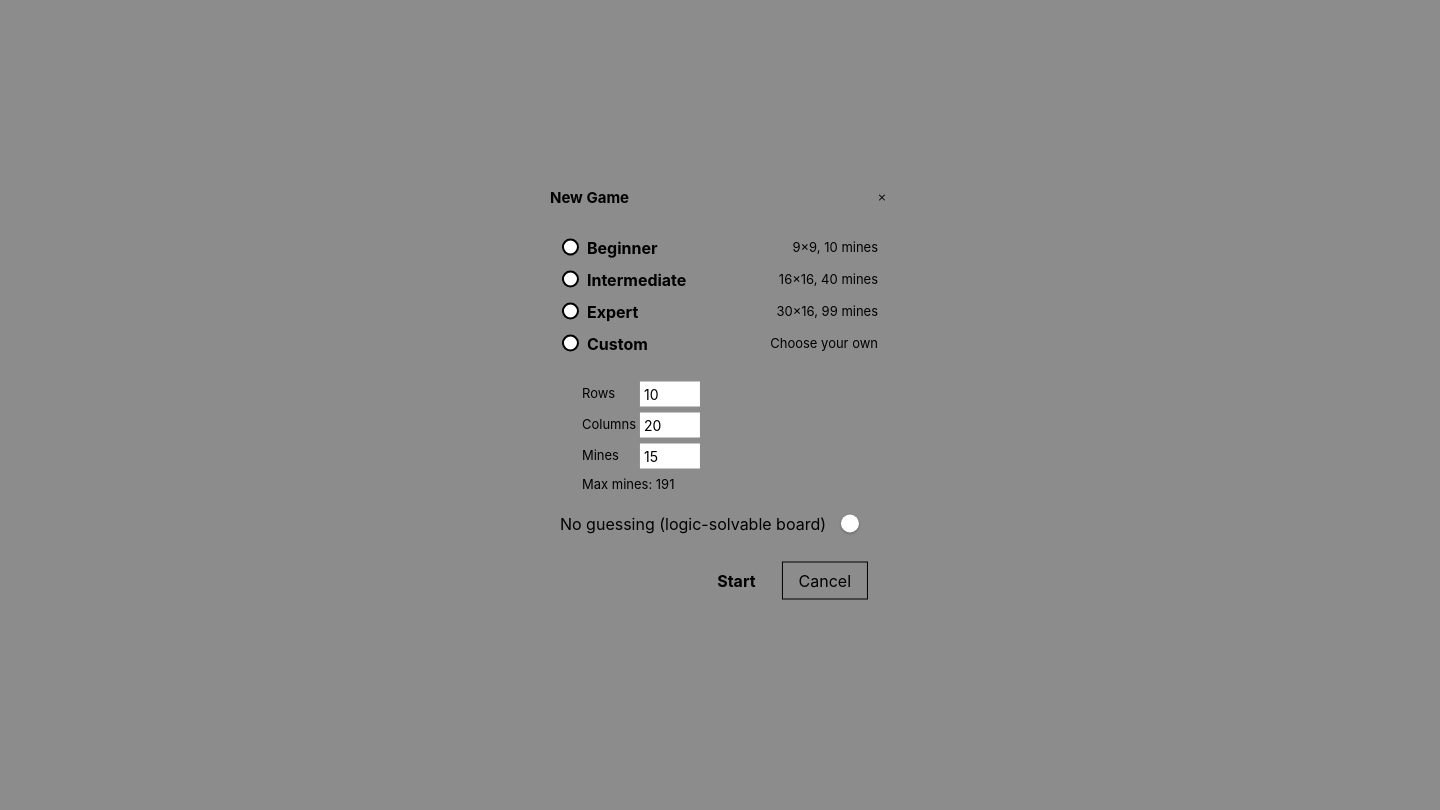
Test: NewGameModal – custom size inputs › clamps below-minimum rows to MIN_ROWS on blur
Step 1. Replace the text in the number field labelled "Rows" with "1" → (670, 394), box x1=640 y1=381 x2=700 y2=406
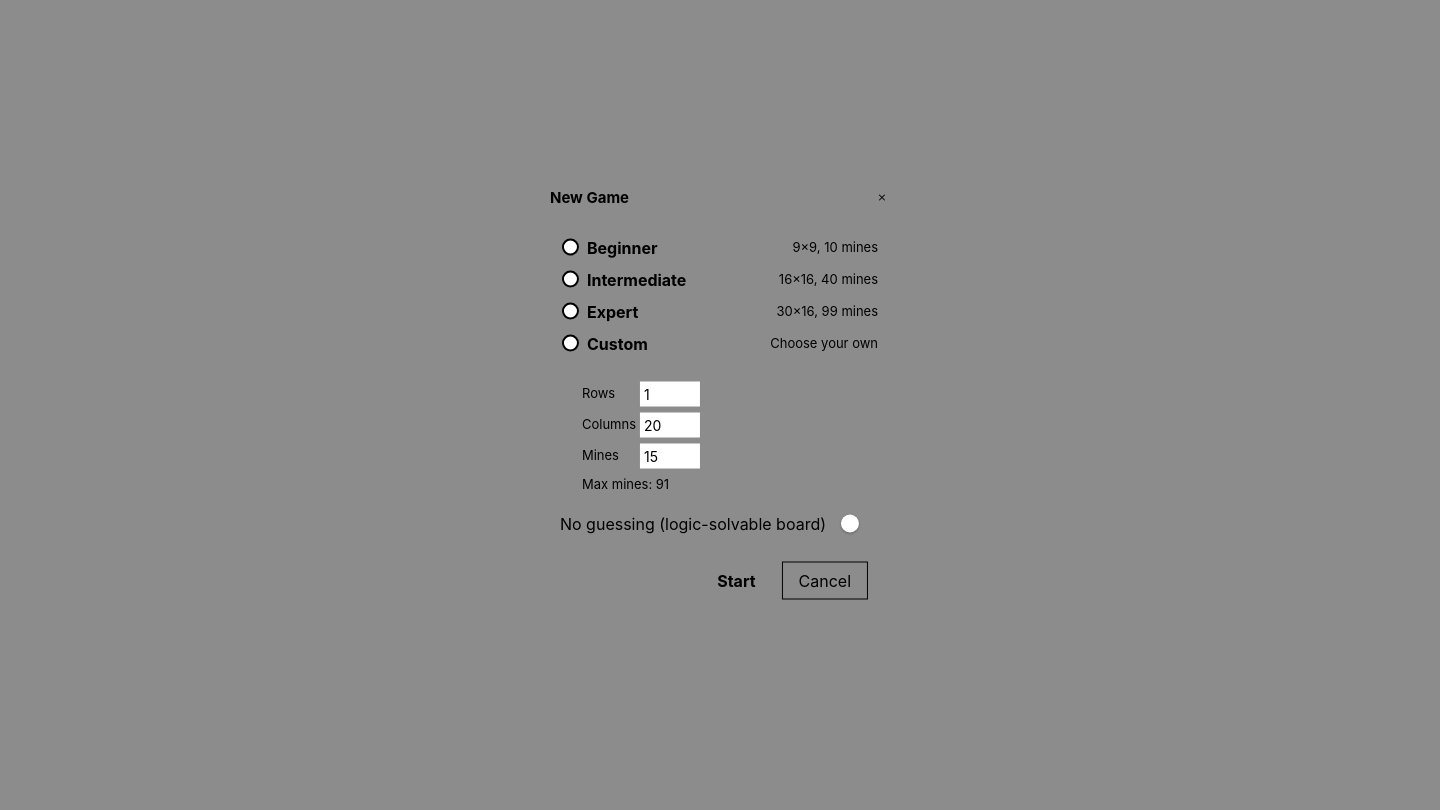
Step 2. Leave the number field labelled "Rows", box x1=640 y1=381 x2=700 y2=406
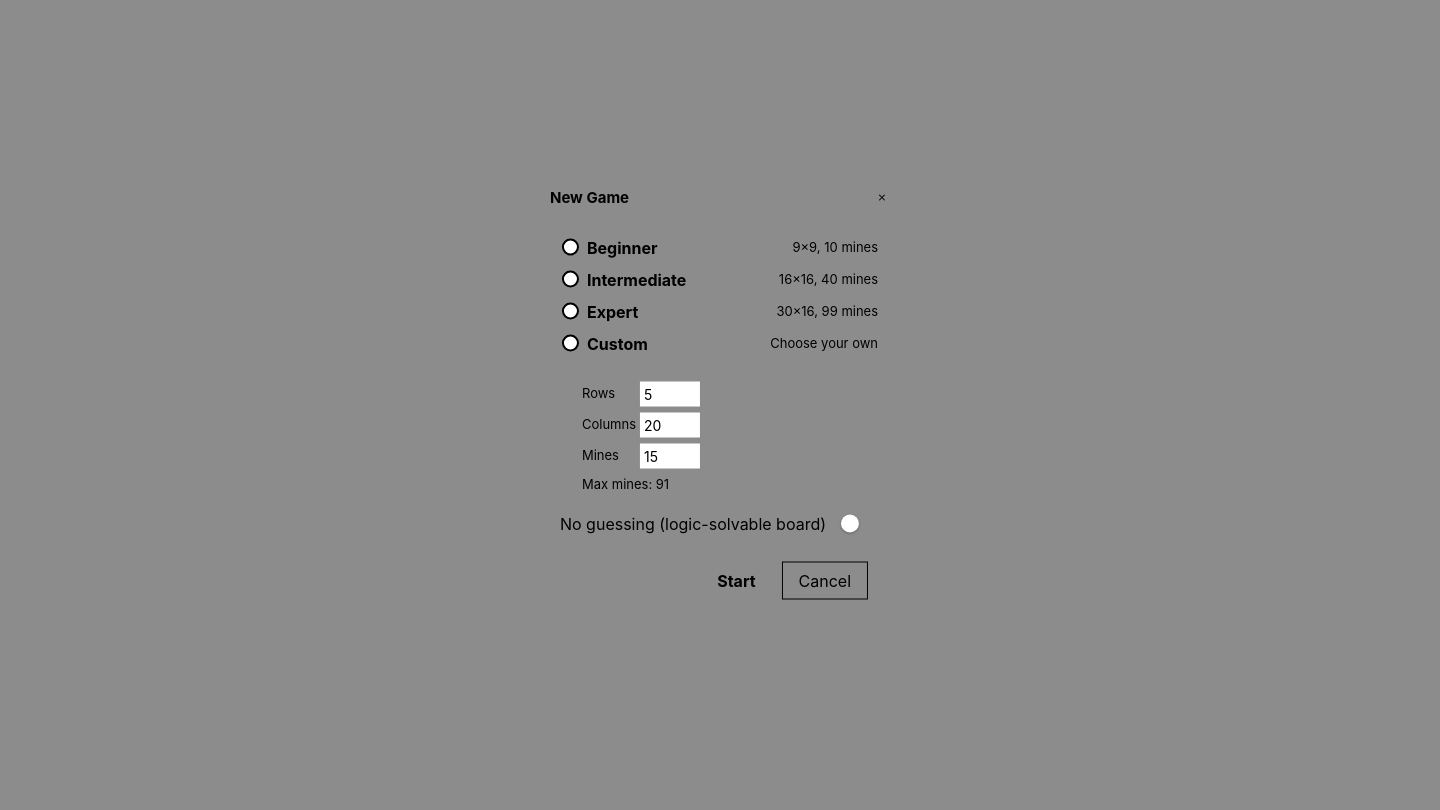
Expected: the number field labelled "Rows" holds "5", x1=640 y1=381 x2=700 y2=406
